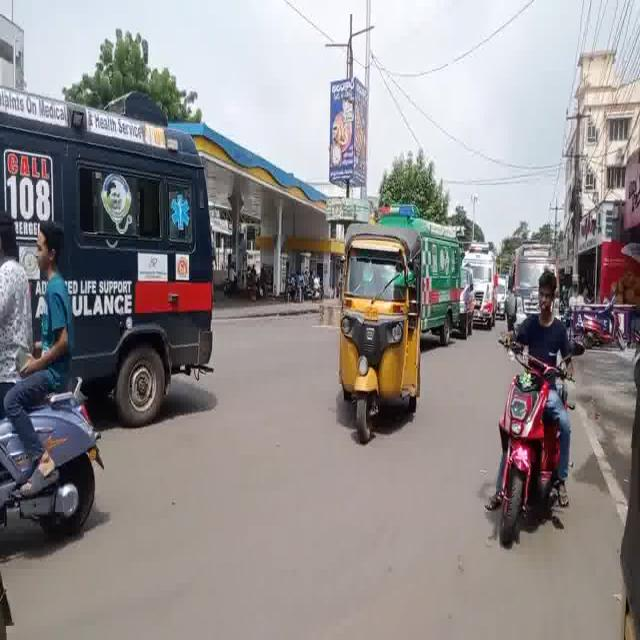ambulance: (0, 91, 220, 393), (383, 199, 457, 333), (512, 226, 561, 327), (466, 240, 503, 323)
